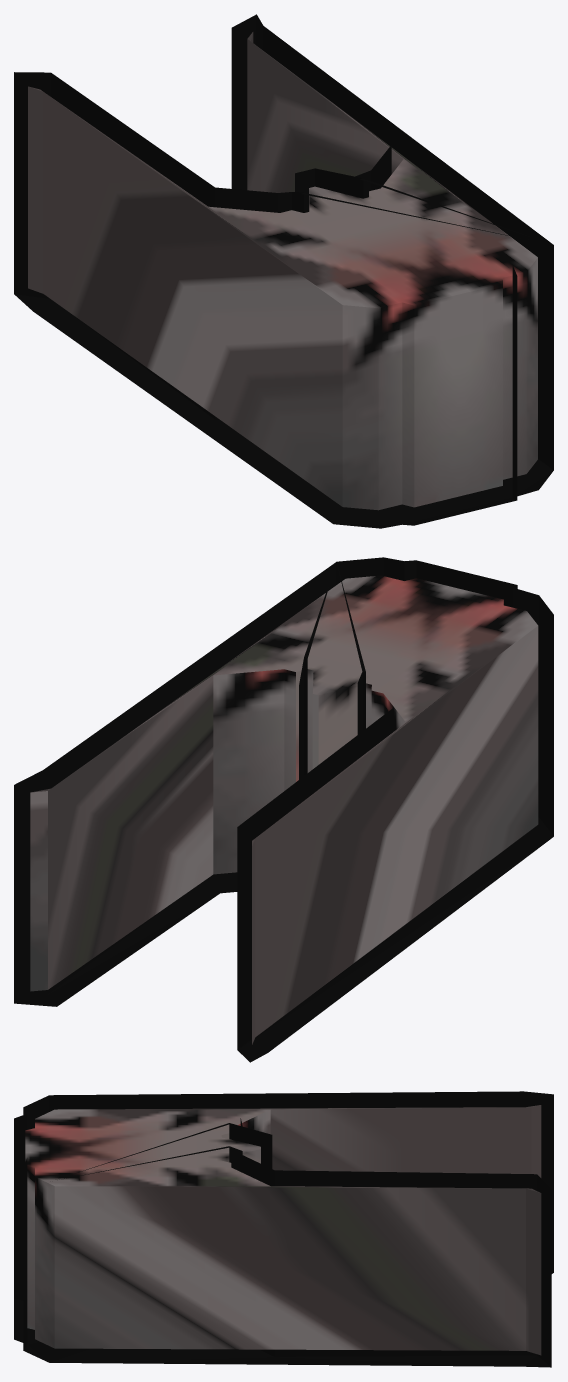
File: Building_VoidSculpture_Things_Building_VoidSculpture_VoidSculptureB.glb
3 renders of one model, top to bottom at view 1: azimuth 30°, elevation 25°; view 2: azimuth 150°, elevation 25°; view 3: azimuth 270°, elevation 25°, orthographic. The views are drawn at different scales.
Parts seen in each view (by area): view 1: Body, Outline; view 2: Body, Outline; view 3: Body, Outline.
Boxes of the visible parts, x1,y1,x2,y2 form: Body: (28, 32, 537, 510); Outline: (14, 14, 553, 528); Body: (30, 575, 538, 1044); Outline: (14, 557, 553, 1062); Body: (25, 1105, 541, 1355); Outline: (14, 1091, 553, 1367).
Size of the model in its own units: 0.6366 by 0.588 by 1.53.
Materials: 2 (1 with a texture image).
